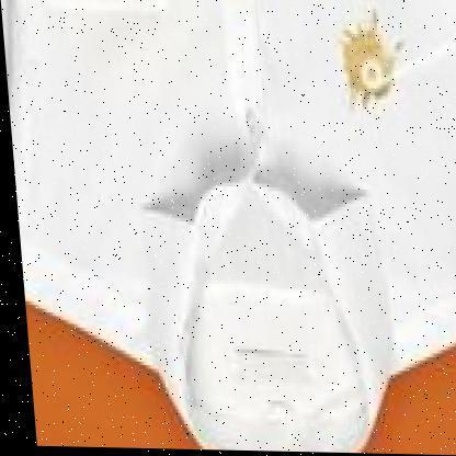coffee: (343, 32, 394, 99)
